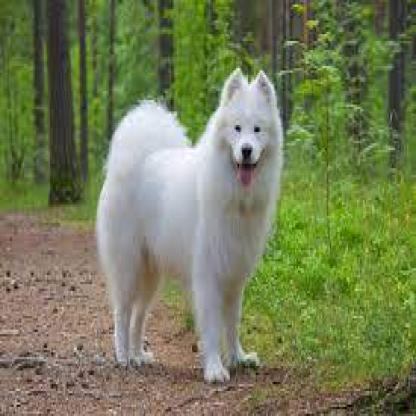dog: (95, 64, 280, 384)
